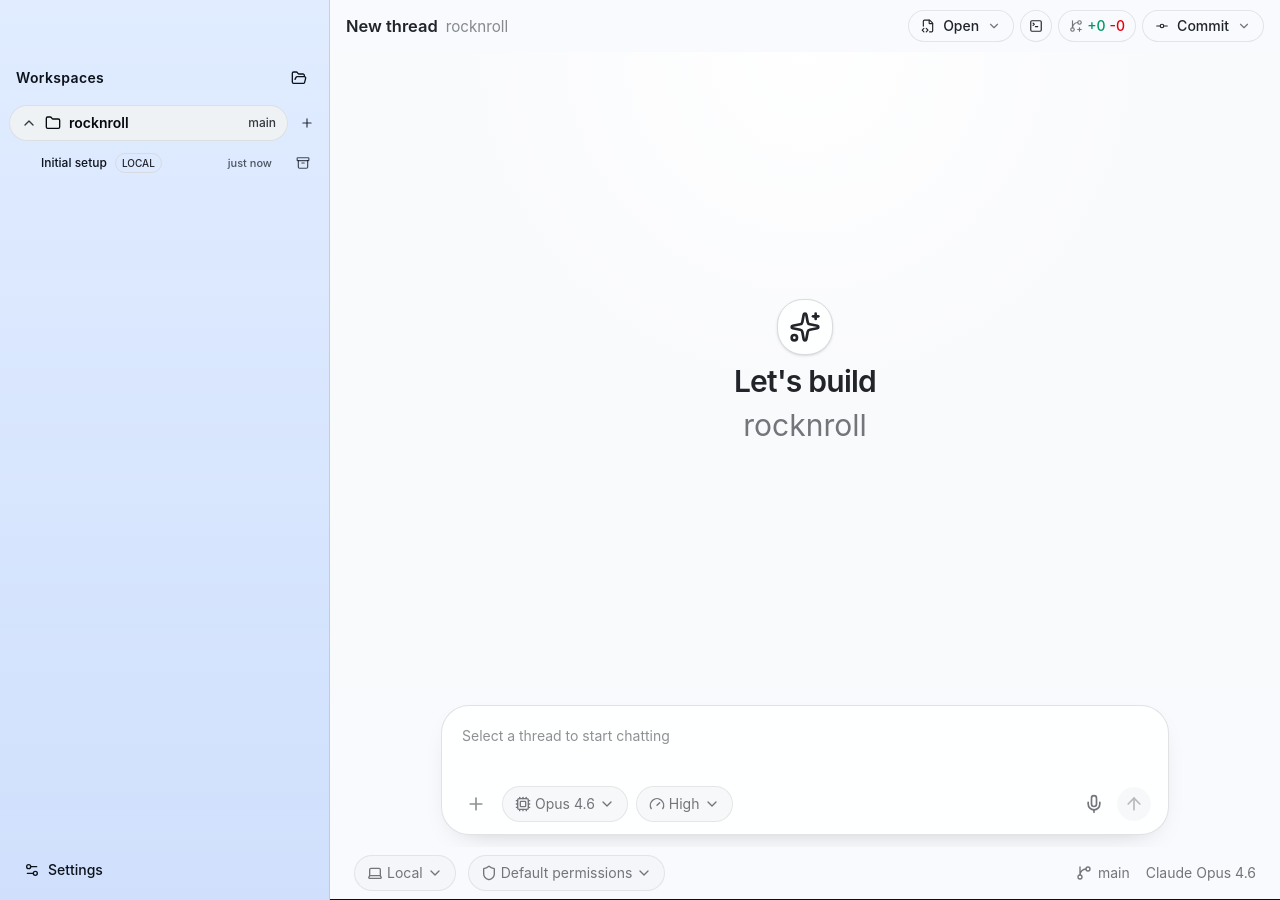
app shell integration › opens native folder chooser and adds workspace from selected path
Click the button named "Open workspace".
click(299, 78)  # box [285,64,313,92]
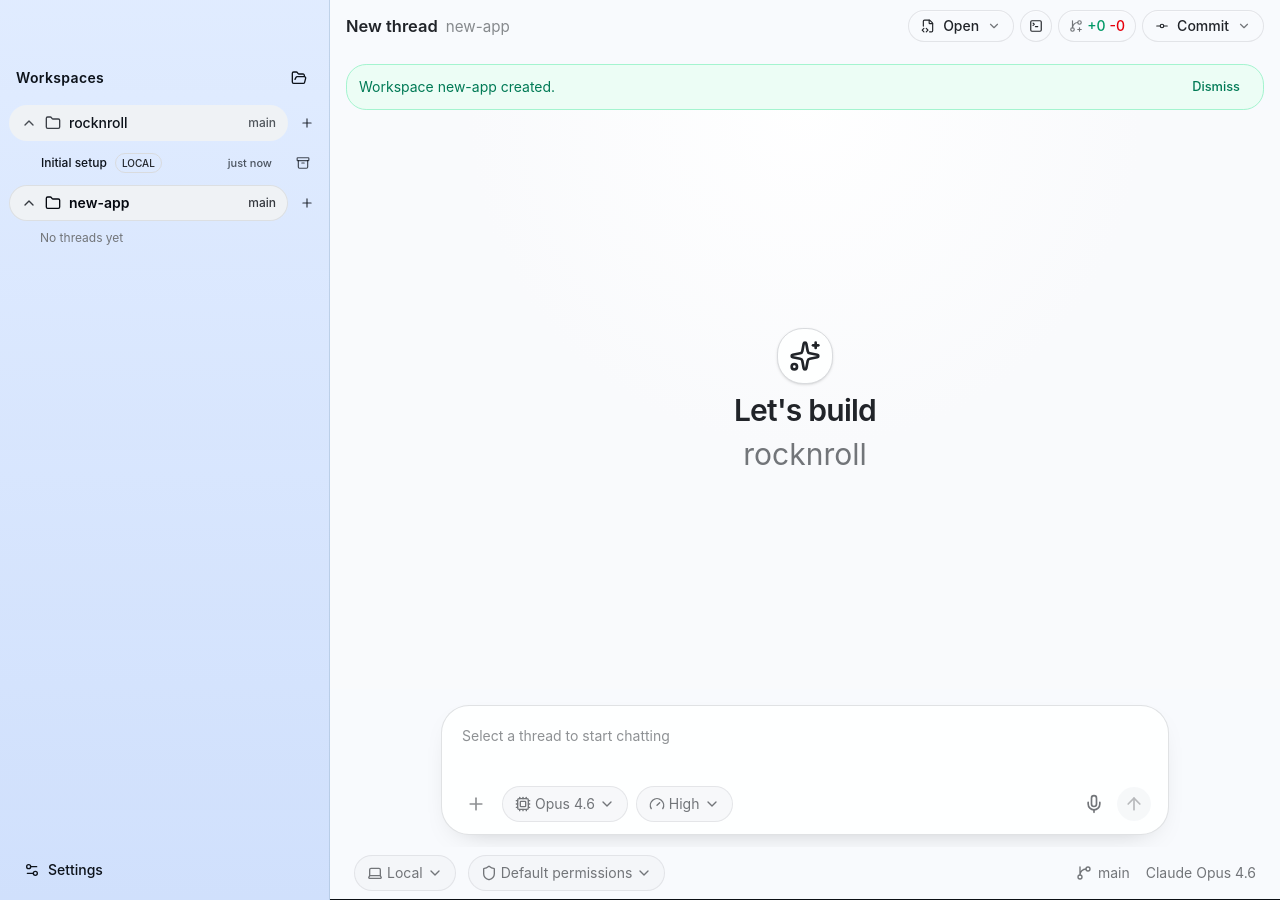
Expected: the 2nd text "new-app" is shown, [69,193,129,213]
Expected: the message shows "Workspace new-app created", [359,78,555,95]
